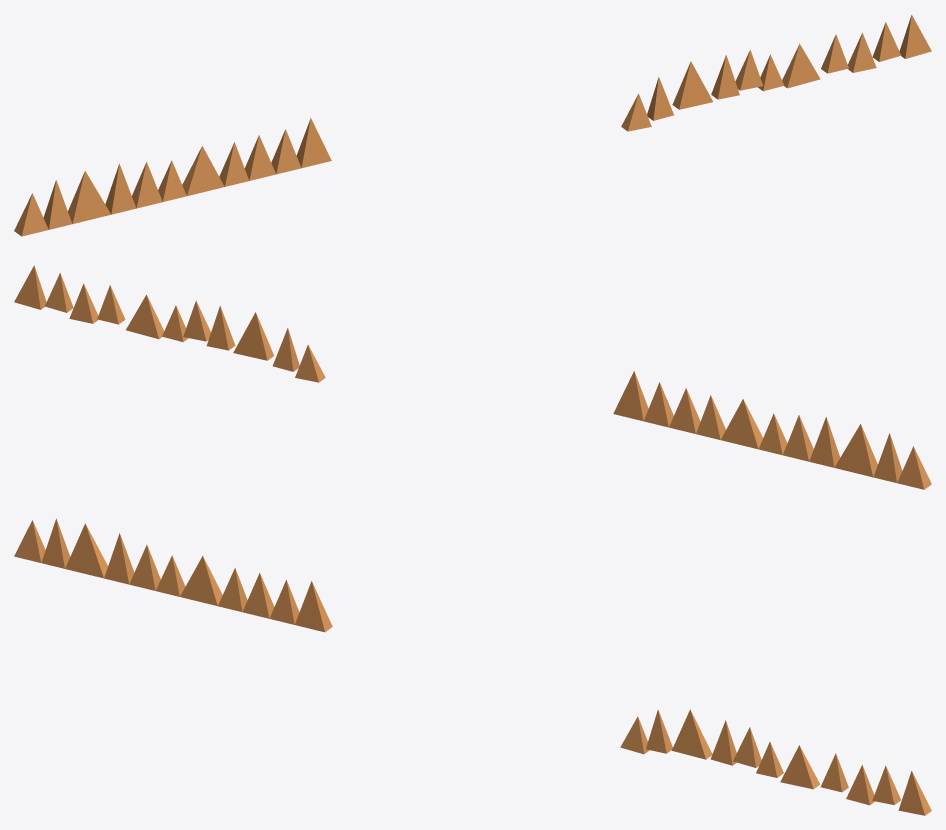
The model's file is prop_big_fence_wood_light.glb.
3 renders of one model, top to bottom at view 1: azimuth 30°, elevation 25°; view 2: azimuth 150°, elevation 25°; view 3: azimuth 330°, elevation 25°, orthographic.
Parts seen in each view (by area): view 1: Props with out snow_Big Fence Wood Light_0; view 2: Props with out snow_Big Fence Wood Light_0; view 3: Props with out snow_Big Fence Wood Light_0.
Boxes of the visible parts, x1,y1,x2,y2 form: Props with out snow_Big Fence Wood Light_0: (14,15,931,236); Props with out snow_Big Fence Wood Light_0: (14,265,931,489); Props with out snow_Big Fence Wood Light_0: (14,518,931,815).
Bounding box in the file's own units: 11.91 × 1.13 × 0.1933.
